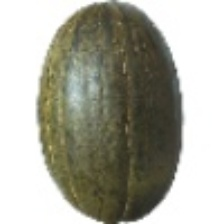honeydew: (30, 55, 198, 212)
